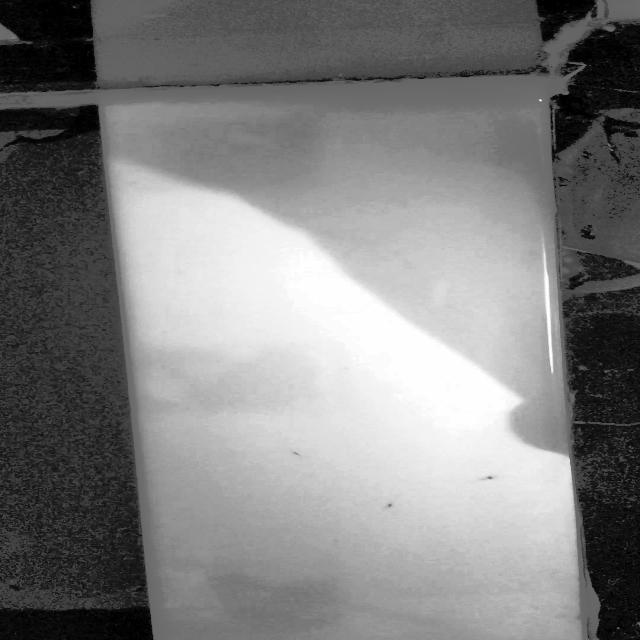shrimp: (469, 472, 506, 486)
